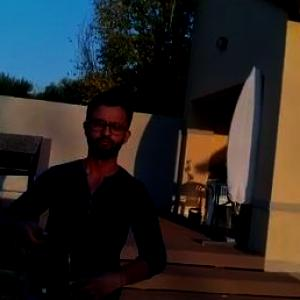follow: (0, 82, 172, 299)
